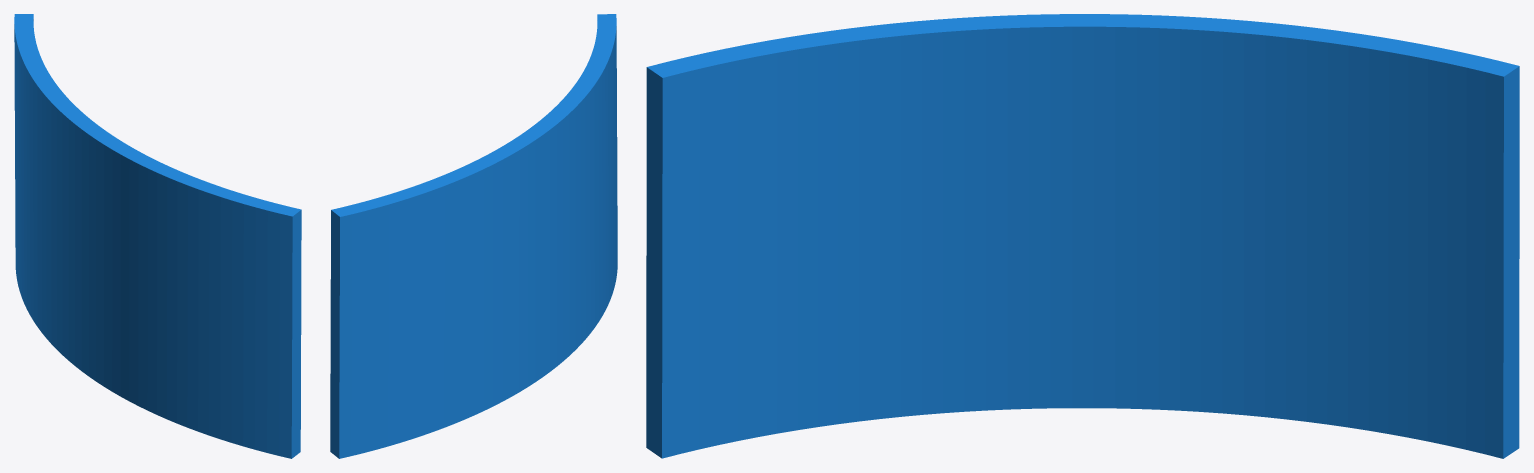
Rendered from game-result-board-mesh.glb.
3 renders of one model, left to right at view 1: azimuth 30°, elevation 25°; view 2: azimuth 150°, elevation 25°; view 3: azimuth 270°, elevation 25°, orthographic. The views are drawn at different scales.
Parts seen in each view (by area): view 1: Cube; view 2: Cube; view 3: Cube.
Boxes of the visible parts, box(x1,y1,x2,y2) form: Cube: box(14, 14, 301, 458); Cube: box(330, 14, 617, 458); Cube: box(646, 14, 1519, 458).
Size of the model in its own units: 0.5018 by 1.4 by 2.91.
